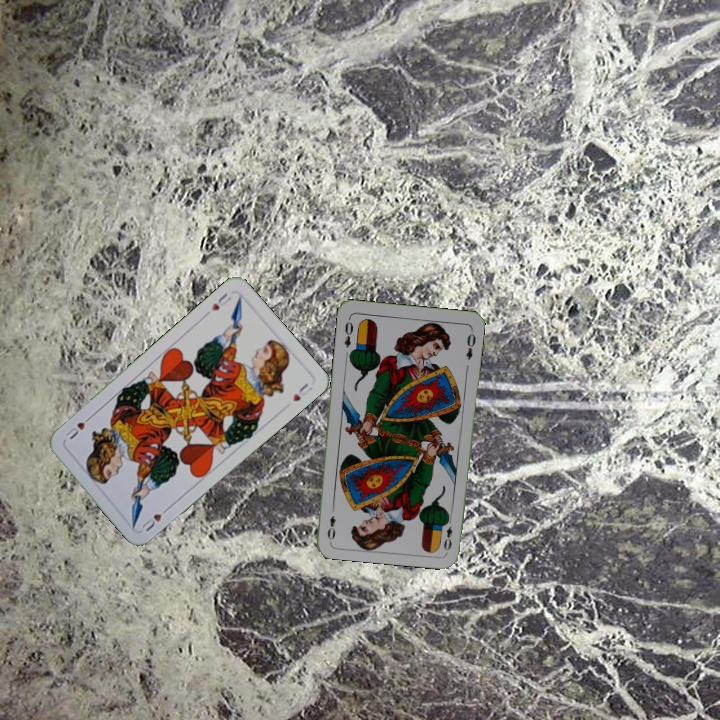EO: (440, 513, 455, 553), (340, 314, 356, 350)
HU: (138, 503, 172, 534), (207, 289, 234, 313)
